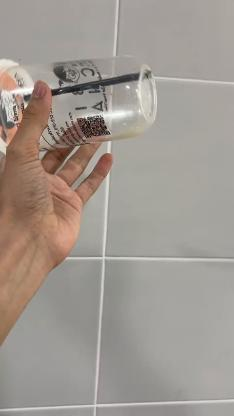Plastic Cup: (0, 58, 158, 152)
